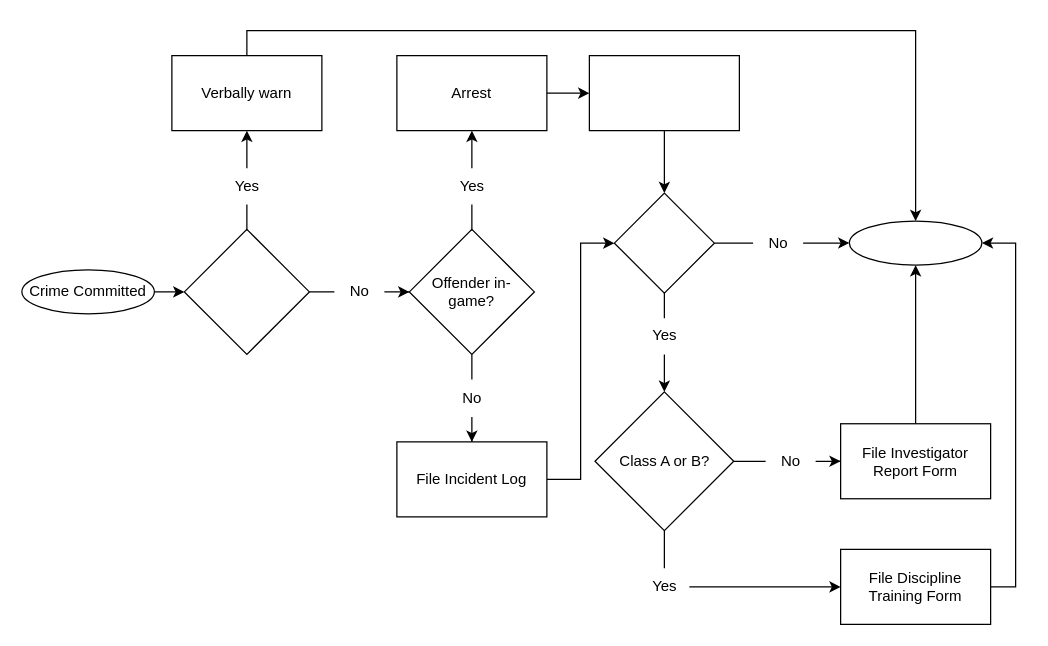
The diagram is 1048 pixels wide and 646 high, and some of its shapes have lost their labels. Each missing label, with the centre of its shape:
"Continue patrolling" belongs at point (915, 242).
"File Arrest Log" belongs at point (663, 92).
"Offender Initiate+?" belongs at point (663, 242).
"Should warn?" belongs at point (246, 291).
